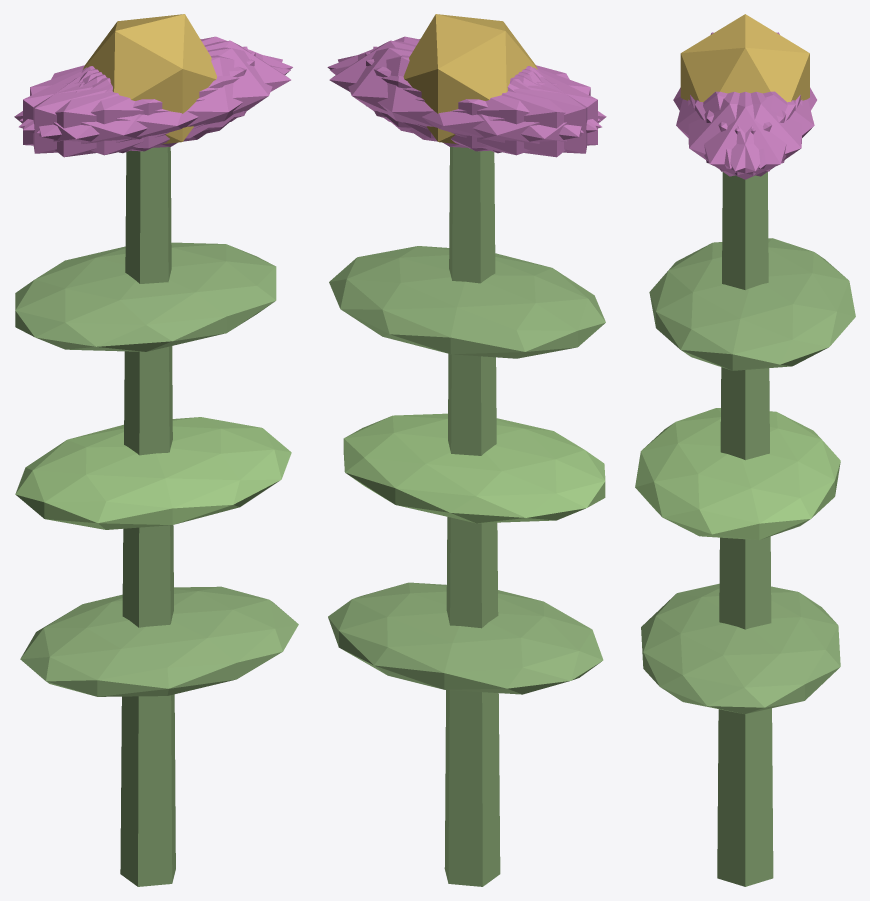
Rendered from cardamine-occulta.glb.
3 renders of one model, left to right at view 1: azimuth 30°, elevation 25°; view 2: azimuth 150°, elevation 25°; view 3: azimuth 270°, elevation 25°, orthographic.
Parts seen in each view (by area): view 1: stem, leaf1, leaf0, leaf2, center, petal1, petal6, petal2, petal5, petal7, petal0, petal4 (+2 smaller); view 2: stem, leaf2, leaf1, leaf0, center, petal8, petal3, petal7, petal4, petal2, petal0, petal5 (+2 smaller); view 3: stem, leaf2, leaf0, leaf1, center, petal0, petal5, petal4, petal1, petal8.
Boxes of the visible parts, x1=… form: stem: x1=120, y1=147, x2=175, y2=886; leaf1: x1=15, y1=417, x2=291, y2=529; leaf0: x1=20, y1=586, x2=298, y2=696; leaf2: x1=15, y1=242, x2=276, y2=351; center: x1=83, y1=14, x2=216, y2=144; petal1: x1=19, y1=55, x2=290, y2=155; petal6: x1=14, y1=67, x2=211, y2=157; petal2: x1=33, y1=46, x2=247, y2=153; petal5: x1=37, y1=47, x2=282, y2=148; petal7: x1=23, y1=52, x2=255, y2=151; petal0: x1=82, y1=40, x2=290, y2=138; petal4: x1=20, y1=36, x2=292, y2=130; stem: x1=444, y1=147, x2=500, y2=886; leaf2: x1=329, y1=246, x2=605, y2=358; leaf1: x1=343, y1=413, x2=605, y2=523; leaf0: x1=328, y1=582, x2=603, y2=694; center: x1=403, y1=14, x2=537, y2=144; petal8: x1=330, y1=55, x2=601, y2=155; petal3: x1=409, y1=67, x2=606, y2=157; petal7: x1=373, y1=46, x2=587, y2=153; petal4: x1=338, y1=47, x2=583, y2=148; petal2: x1=365, y1=52, x2=597, y2=151; petal0: x1=329, y1=40, x2=537, y2=138; petal5: x1=327, y1=36, x2=600, y2=130; stem: x1=717, y1=172, x2=773, y2=886; leaf2: x1=649, y1=238, x2=855, y2=370; leaf0: x1=641, y1=583, x2=840, y2=714; leaf1: x1=635, y1=408, x2=840, y2=540; center: x1=680, y1=14, x2=809, y2=102; petal0: x1=690, y1=91, x2=800, y2=179; petal5: x1=688, y1=91, x2=795, y2=176; petal4: x1=695, y1=91, x2=802, y2=176; petal1: x1=676, y1=91, x2=785, y2=168; petal8: x1=704, y1=91, x2=814, y2=168.
Size of the model in its own units: 0.1452 by 0.4418 by 0.1048.
